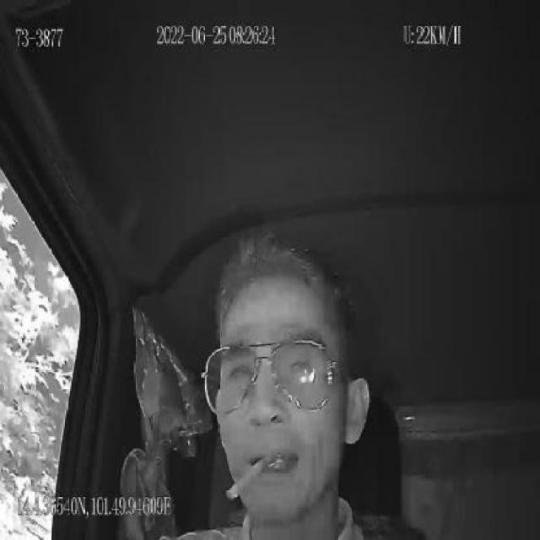smoking: (226, 450, 274, 503)
